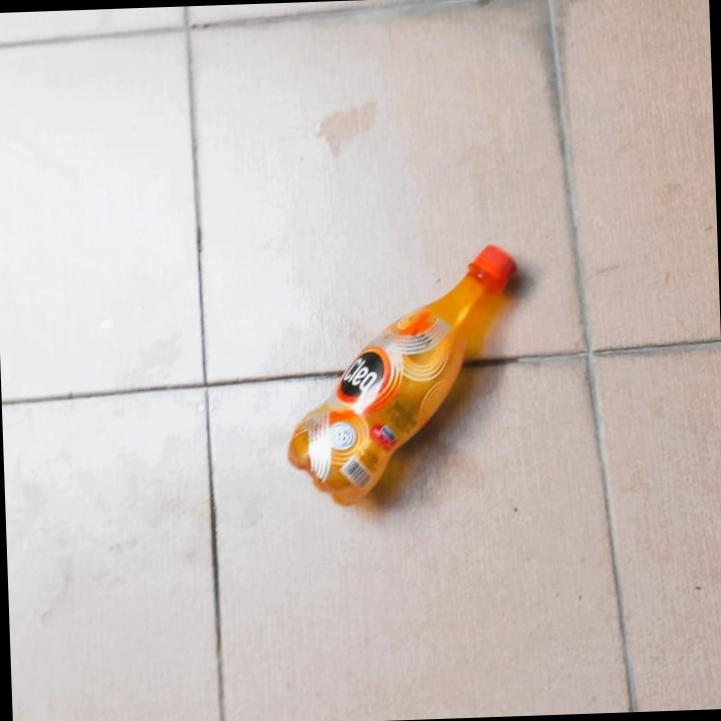Plastik: (279, 242, 525, 509)
